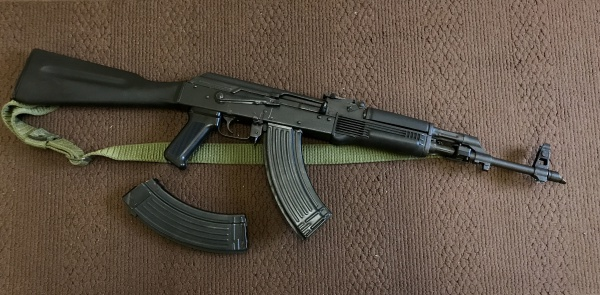ak47: (14, 47, 563, 240)
